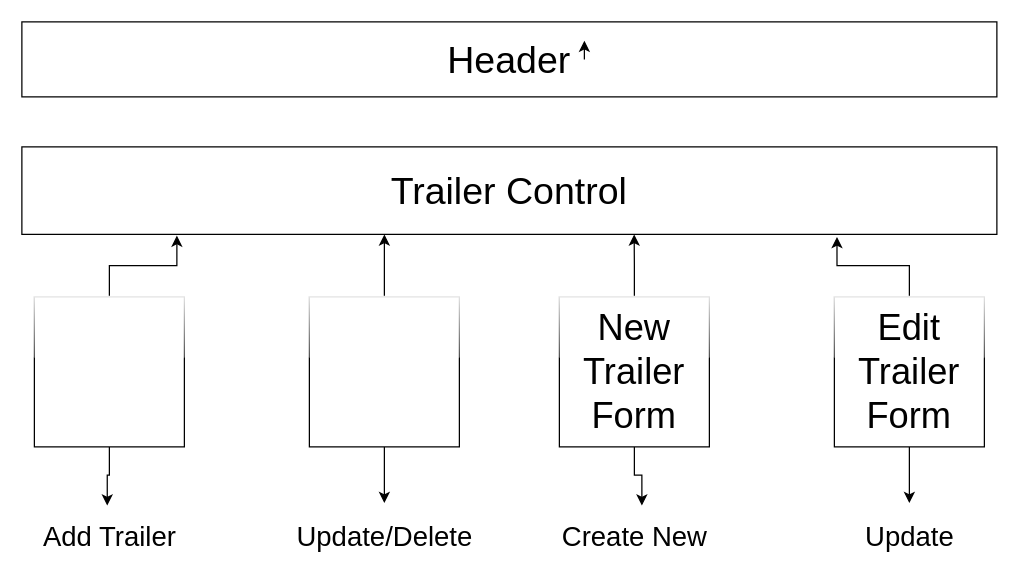
The diagram is 1019 pixels wide and 588 high, and some of its shapes have lost their labels. The centre of each missing label's shape, as x and y in pixels:
"Trailer Detail" belongs at point (383, 371).
"Trailer List" belongs at point (108, 371).
